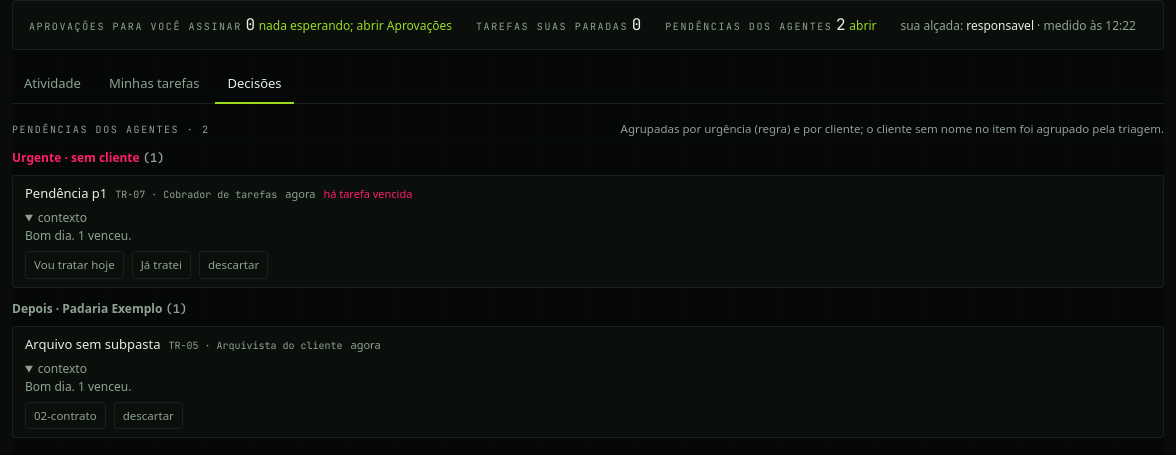
Test: as pendências dos agentes na aba Decisões › um toque responde pela rota das pendências e o contador cai; descartar também
This screenshot has width=1176, height=455.
Expected: the text "2" is shown, [836,14,846,35]
Step 1. Click the button with test id "pendencia-p1-opcao-vou-tratar" → {"x": 74, "y": 265}, box [25,251,124,279]
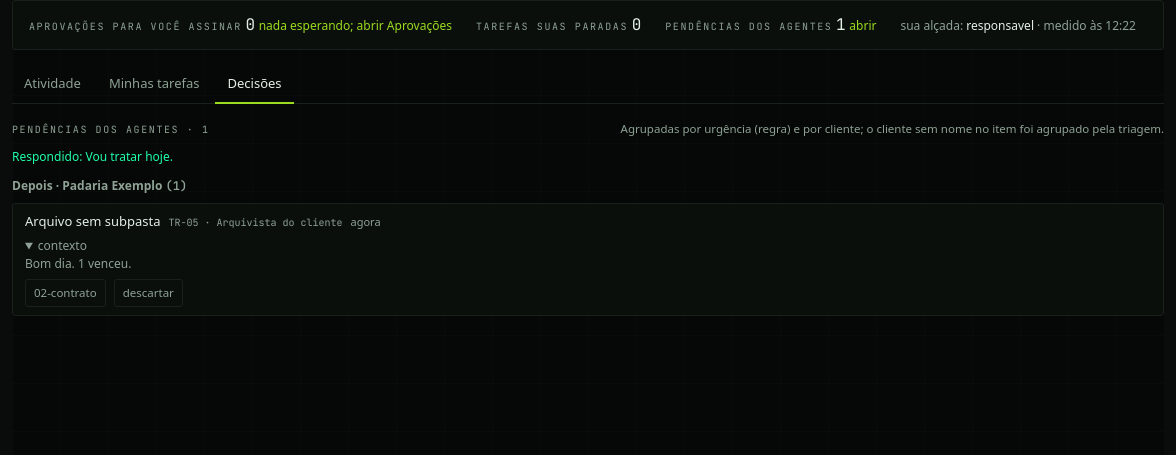
Now the list item with test id "pendencia-p1" is gone
Now the text "1" is shown, box [836,14,846,35]
Now the text with test id "caixa-pendencias-aviso" reads "Respondido: Vou tratar hoje.", box [12,148,173,165]
Step 2. Click the button with test id "pendencia-p2-descartar" → {"x": 148, "y": 293}, box [114,279,183,307]
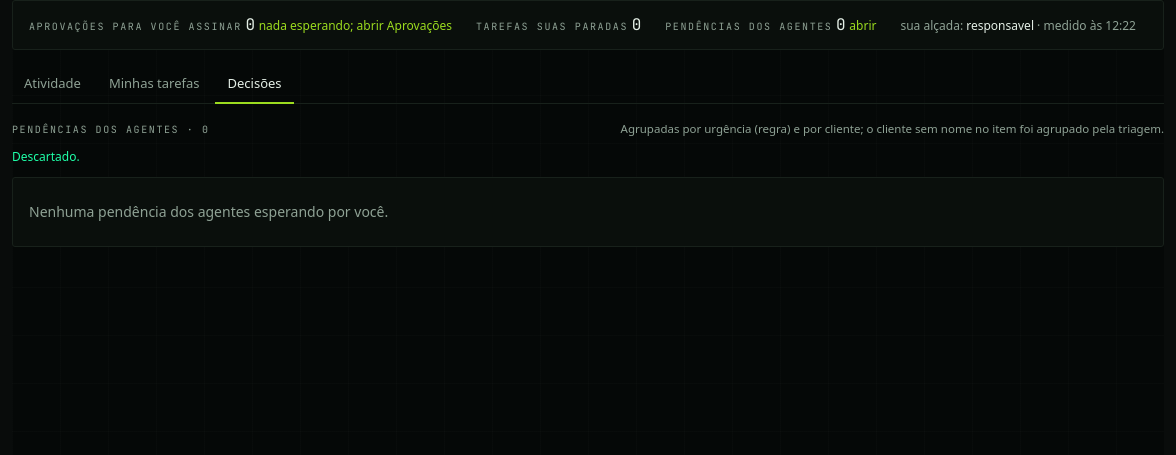
Now the element with test id "caixa-pendencias" shows "Nenhuma pendência dos agentes esperando por você.", box [29,202,388,221]
Now the 3rd text "0" is shown, box [836,14,846,35]
